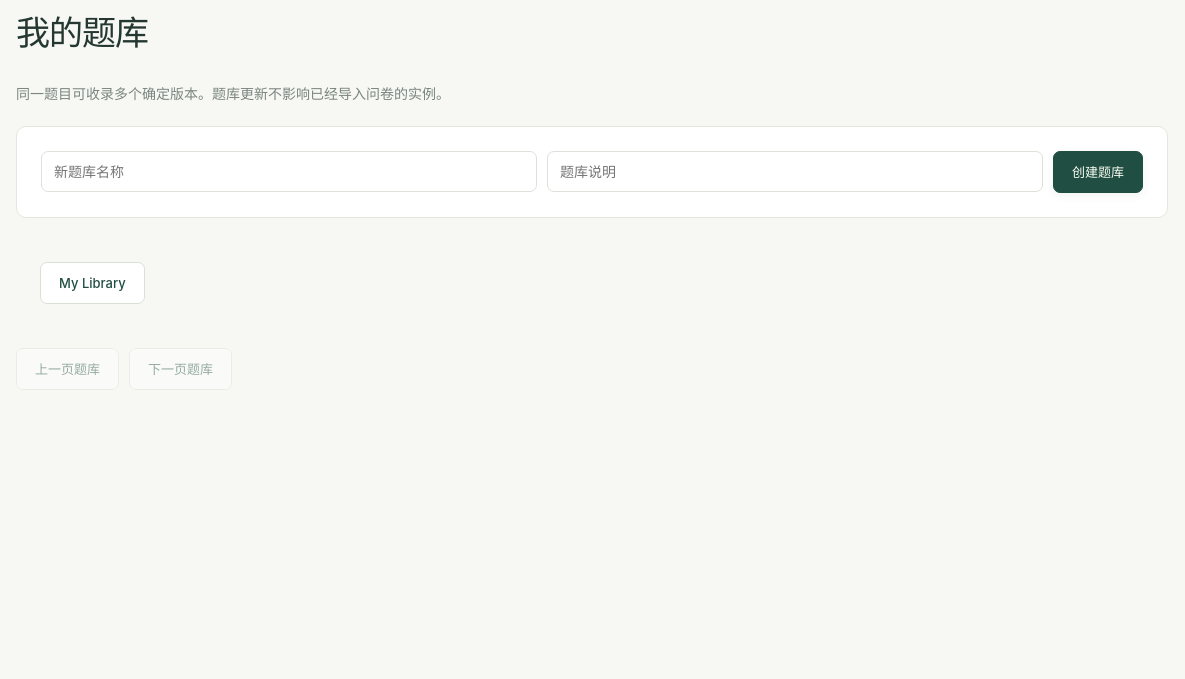
Test case: a library member with revoked old version must allow choosing an authorized newer version
Click the button "My Library" at coordinates (92, 283), box [40, 262, 145, 304]
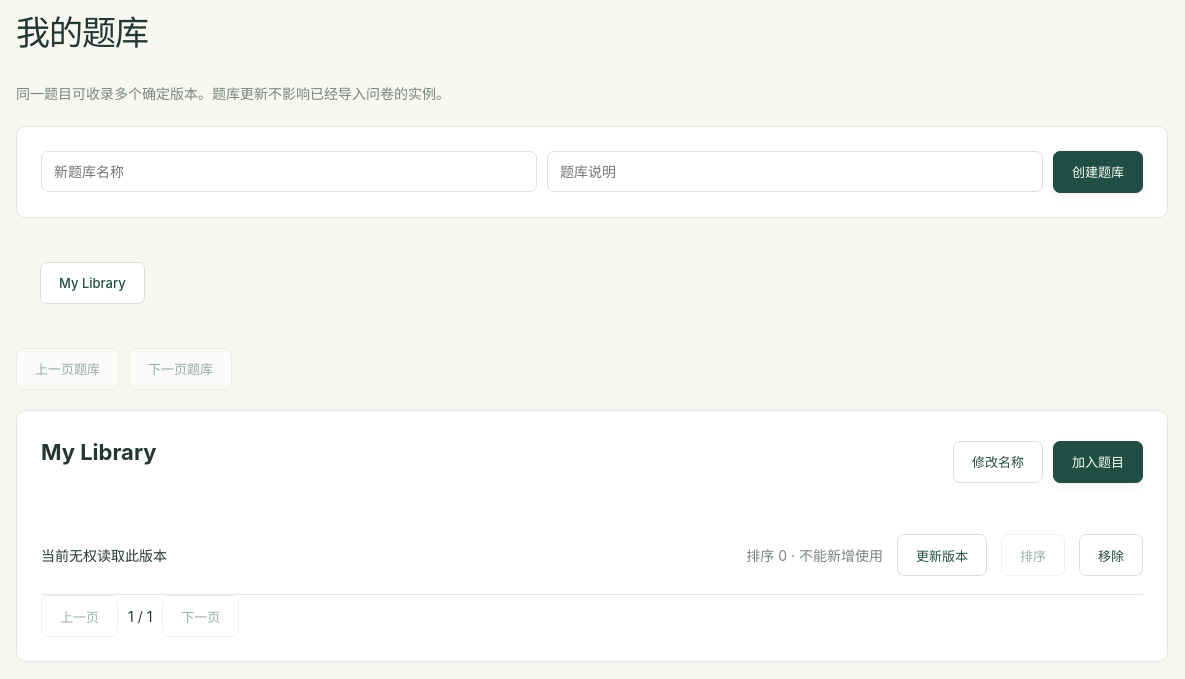
Now the button "更新版本" is enabled, box [897, 534, 987, 576]
